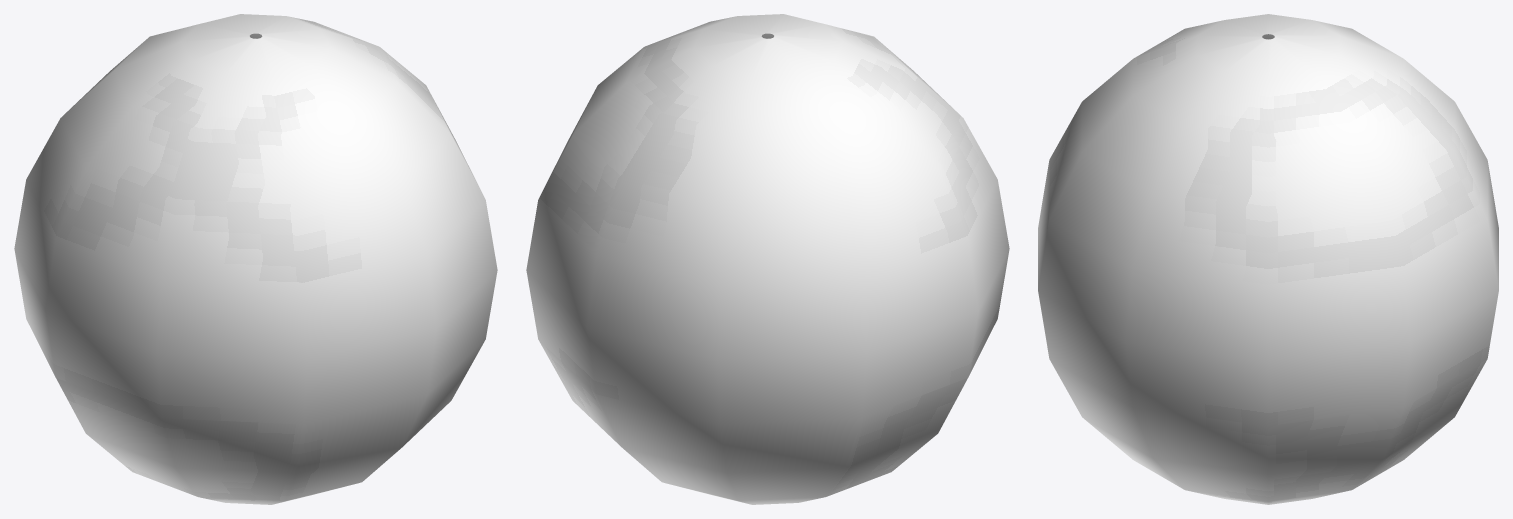
Rendered from earth.obj.
3 renders of one model, left to right at view 1: azimuth 30°, elevation 25°; view 2: azimuth 150°, elevation 25°; view 3: azimuth 270°, elevation 25°, orthographic.
Visible parts, largest first — view 1: Sphere; view 2: Sphere; view 3: Sphere.
Boxes of the visible parts, left/top/right/bottom form: Sphere: left=14, top=14, right=497, bottom=504; Sphere: left=526, top=14, right=1009, bottom=504; Sphere: left=1038, top=14, right=1498, bottom=504.
Bounding box in the file's own units: 1.94 × 1.98 × 1.85.
